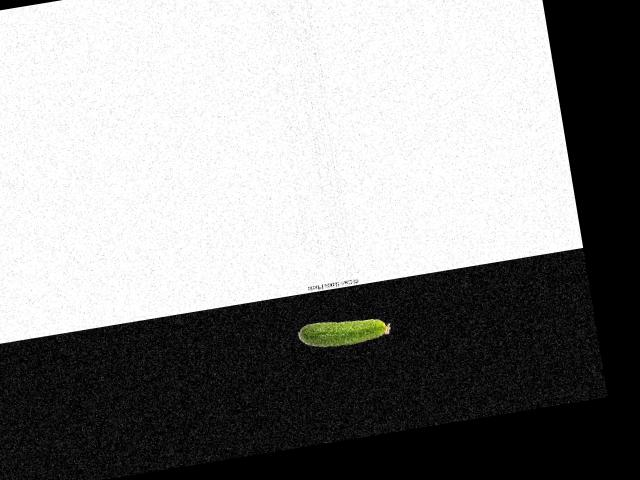cucumber: (296, 311, 392, 352)
